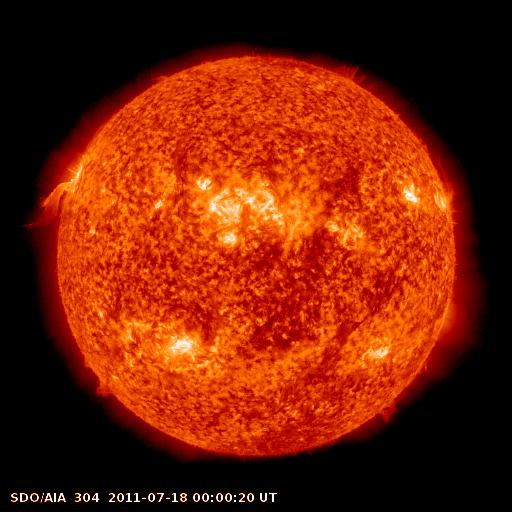prominence: (21, 178, 79, 240), (368, 386, 408, 431), (327, 55, 363, 90), (91, 376, 120, 404)
